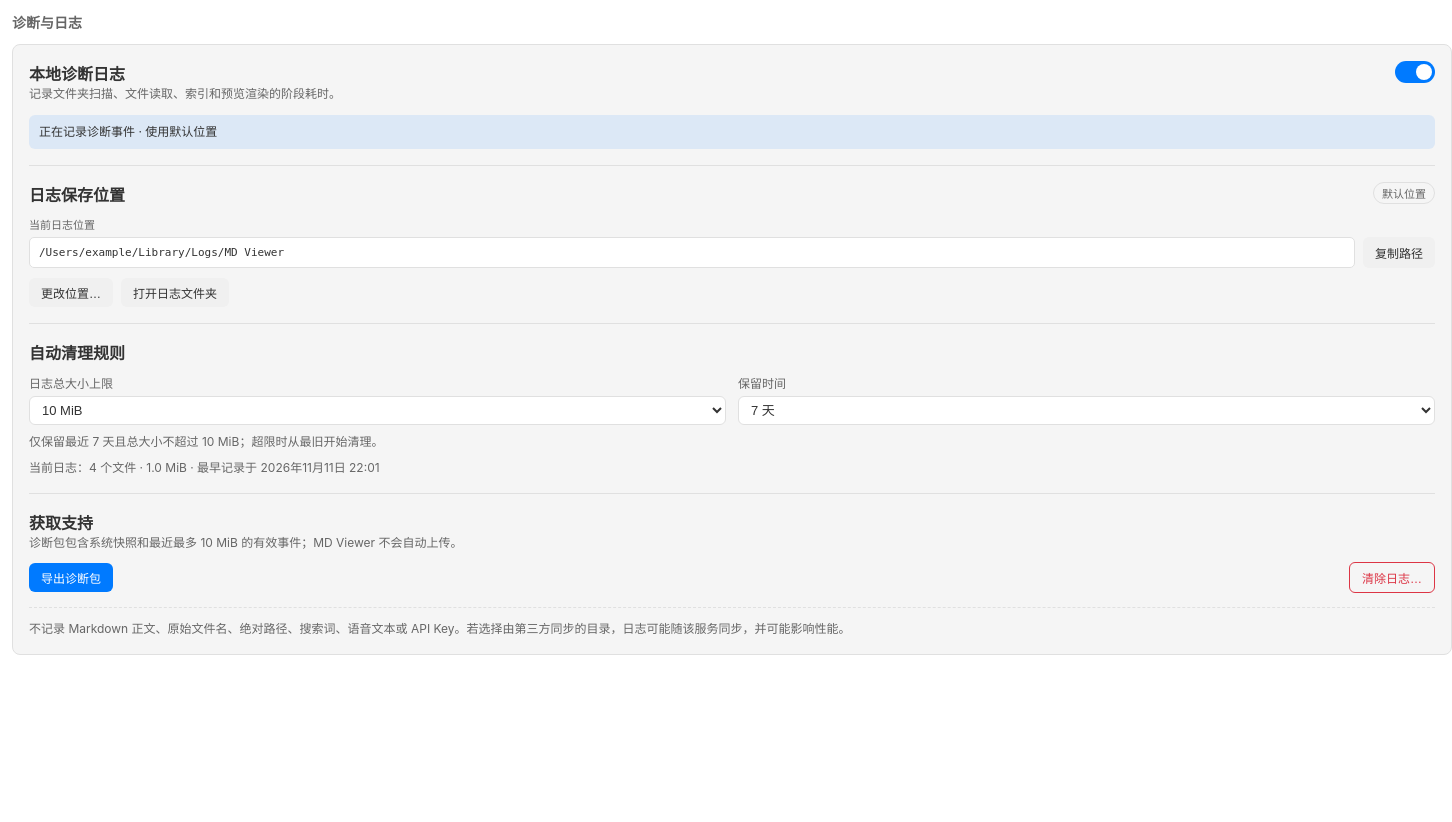
Test case: DiagnosticsSettingsSection › 容量和天数作为一个草稿一次提交
Expected: the text "正在记录诊断事件 · 使用默认位置" is shown, left=29, top=115, right=1435, bottom=149
Select "25 MiB" in the dropdown labelled "日志总大小上限": (378, 411) left=29, top=396, right=726, bottom=425
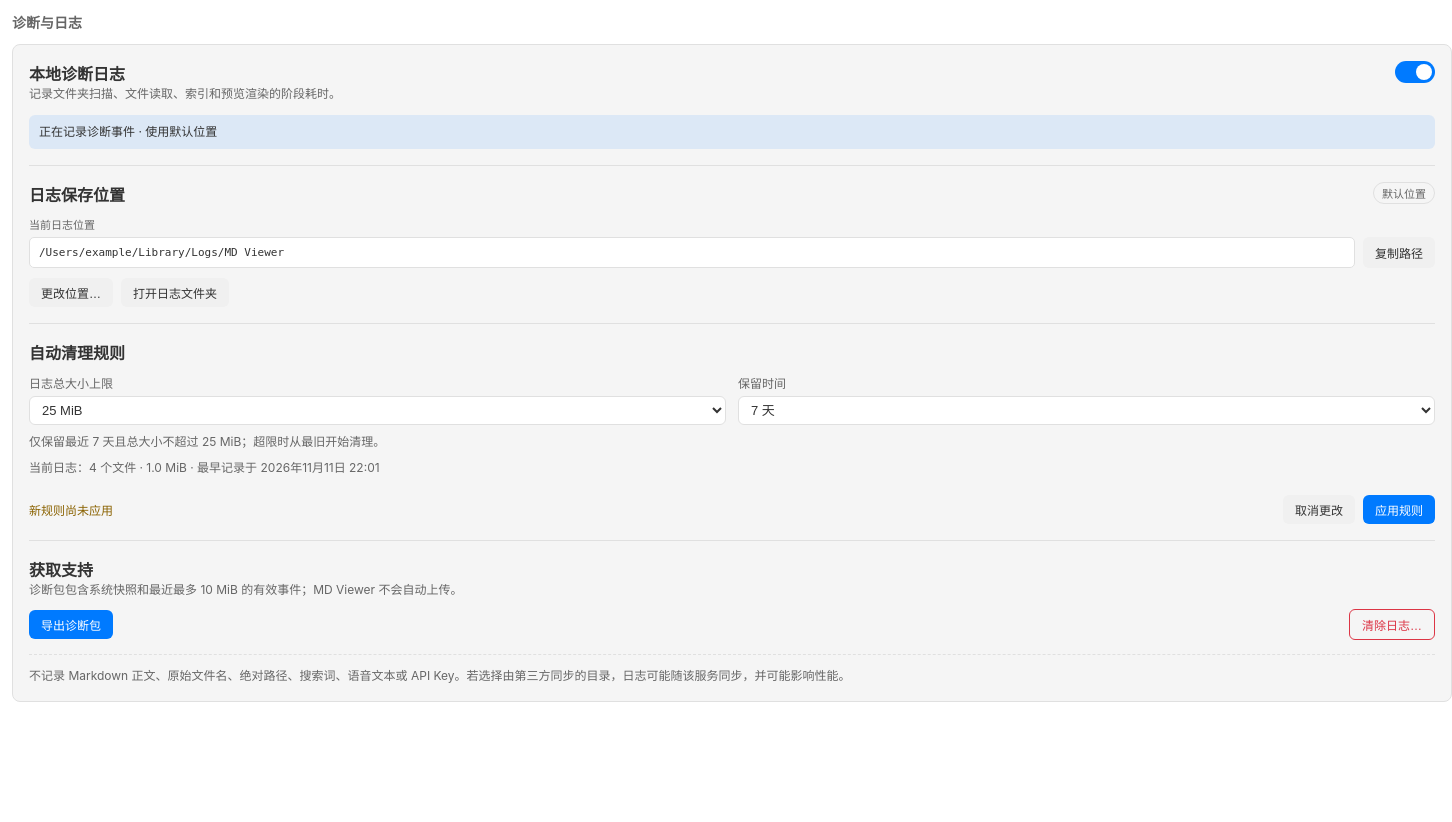
Select "14 天" in the dropdown labelled "保留时间": (1086, 411) left=738, top=396, right=1435, bottom=425
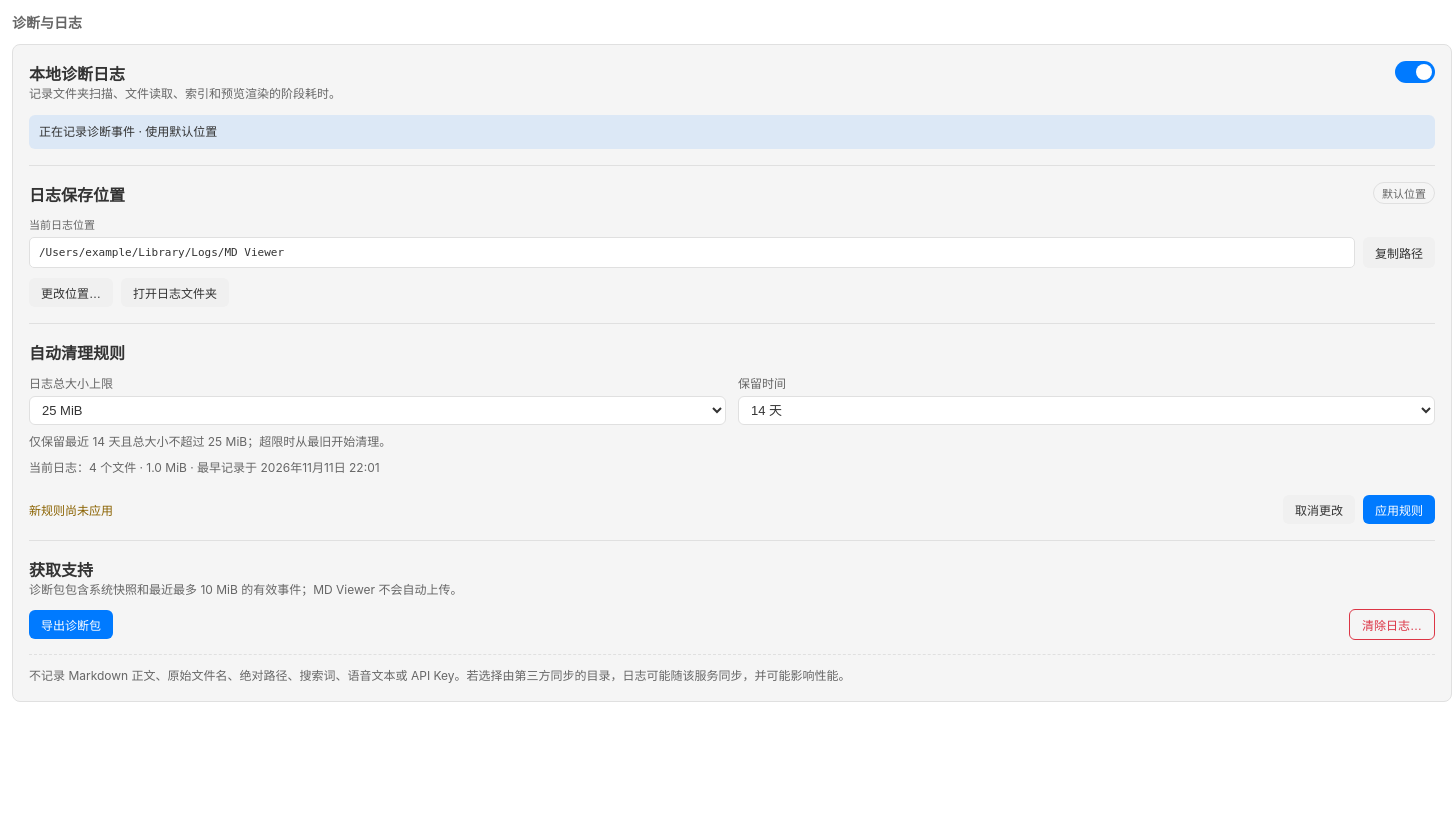
Result: the text "新规则尚未应用" is shown at left=29, top=501, right=113, bottom=518
Click the button "应用规则": (1399, 510) left=1363, top=495, right=1435, bottom=524
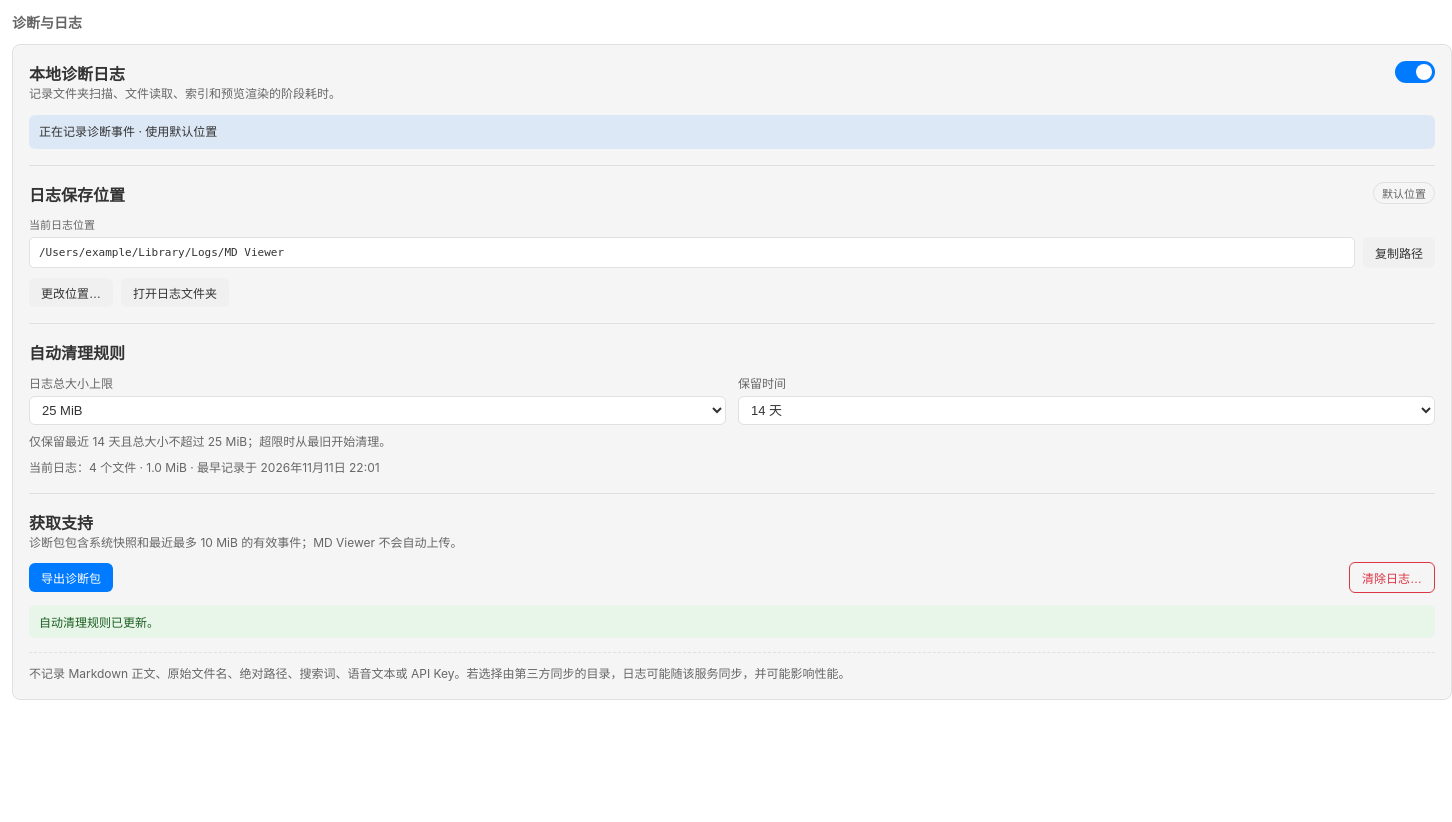
Result: the text "自动清理规则已更新。" is shown at left=39, top=613, right=159, bottom=630
